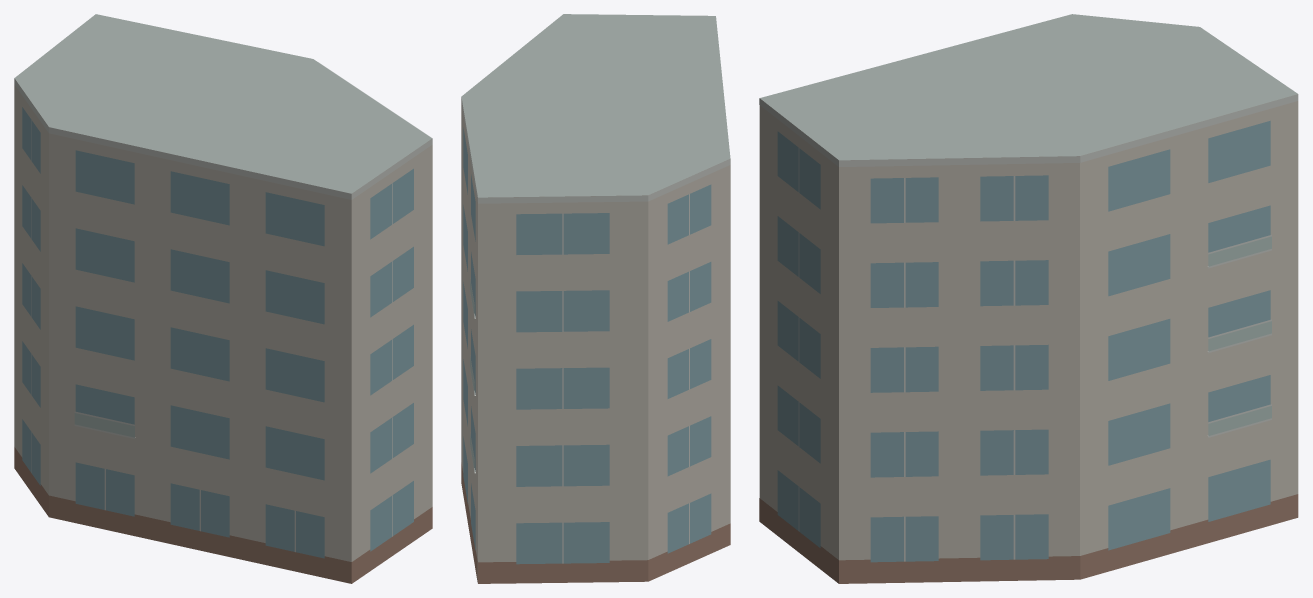
The model's file is survey-upis-32869499.glb.
The picture shows the model from 3 angles, left to right: view 1: azimuth 30°, elevation 25°; view 2: azimuth 150°, elevation 25°; view 3: azimuth 270°, elevation 25°; orthographic projection. The views are drawn at different scales.
Visible parts, largest first — view 1: survey-upis-32869499.tmp; view 2: survey-upis-32869499.tmp; view 3: survey-upis-32869499.tmp.
Boxes of the visible parts, left/top/right/bottom form: survey-upis-32869499.tmp: left=14, top=14, right=432, bottom=583; survey-upis-32869499.tmp: left=461, top=14, right=730, bottom=583; survey-upis-32869499.tmp: left=759, top=14, right=1298, bottom=583.
Bounding box in the file's own units: 11.27 × 15.2 × 17.53.
